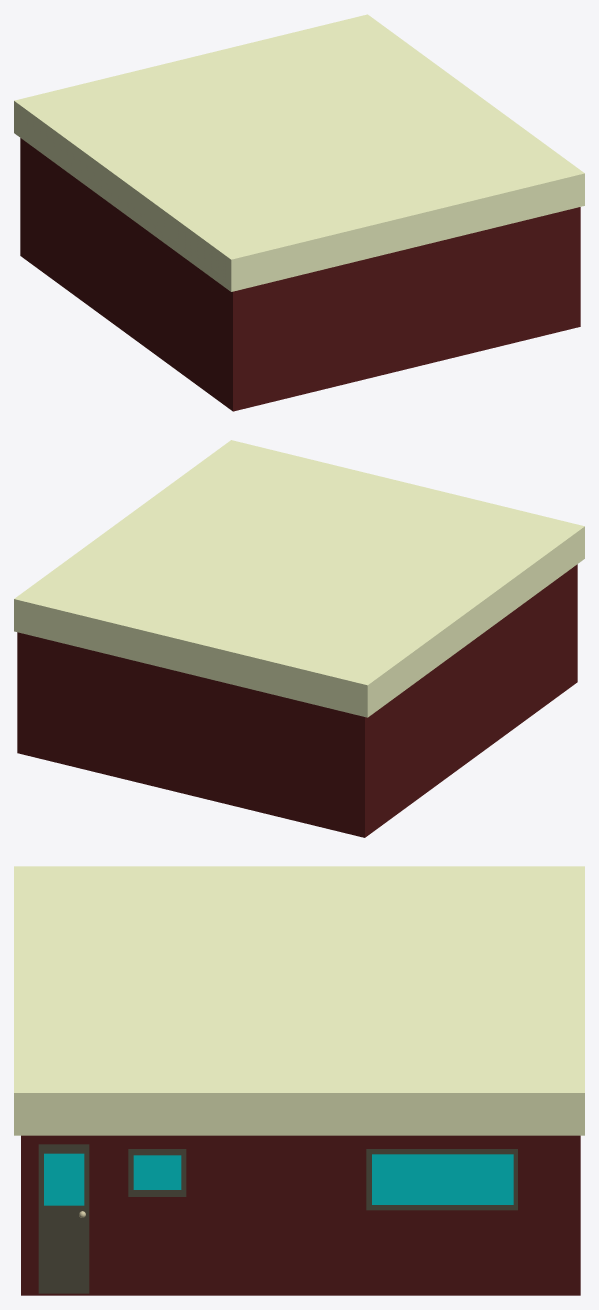
File: house14.fbx
The picture shows the model from 3 angles, top to bottom: view 1: azimuth 30°, elevation 25°; view 2: azimuth 150°, elevation 25°; view 3: azimuth 270°, elevation 25°; orthographic projection. The views are drawn at different scales.
Parts seen in each view (by area): view 1: house14; view 2: house14; view 3: house14.
Part boxes in pixels (left/top/right/bottom): house14: left=14, top=14, right=584, bottom=411; house14: left=14, top=440, right=584, bottom=837; house14: left=14, top=866, right=584, bottom=1295.
Size of the model in its own units: 295 by 123 by 312.
